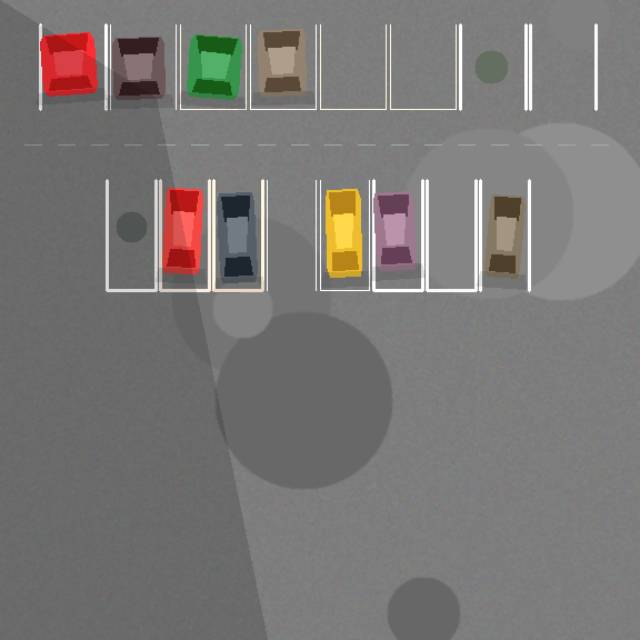space-empty: (320, 24, 386, 109), (390, 24, 456, 109), (460, 24, 526, 109), (530, 24, 596, 109), (107, 180, 156, 290), (267, 180, 316, 290), (427, 180, 476, 290)
space-occupied: (40, 24, 106, 109), (110, 24, 176, 109), (180, 24, 246, 109), (250, 24, 316, 109), (160, 180, 209, 290), (213, 180, 262, 290), (320, 180, 369, 290), (373, 180, 422, 290), (480, 180, 529, 290)
